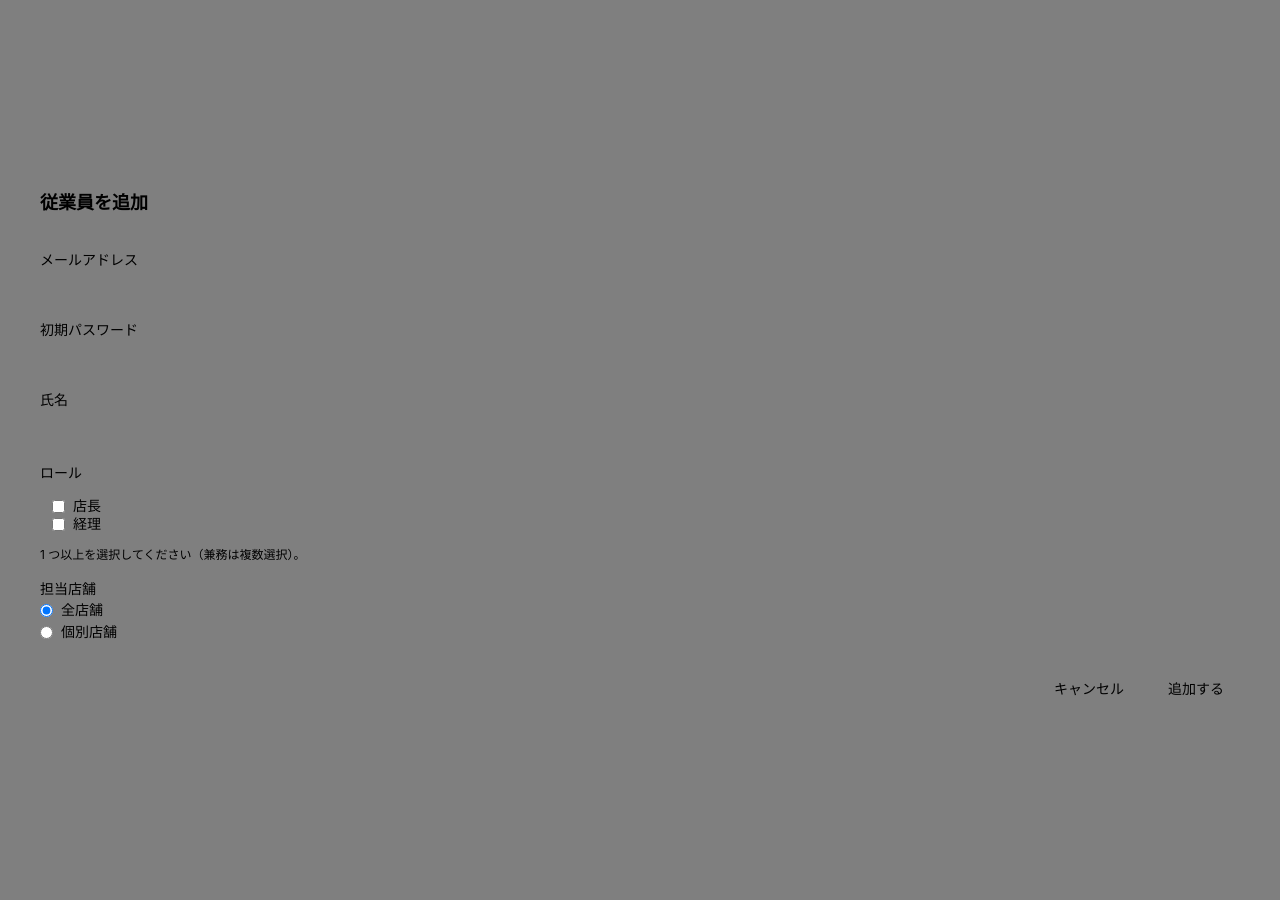
Test case: 共通作成モーダル › 必須項目が空なら各欄の傍に文言を出し作成 API を呼ばない
Click the checkbox labelled "店長": click(58, 506) top-left (52, 500), bottom-right (65, 512)
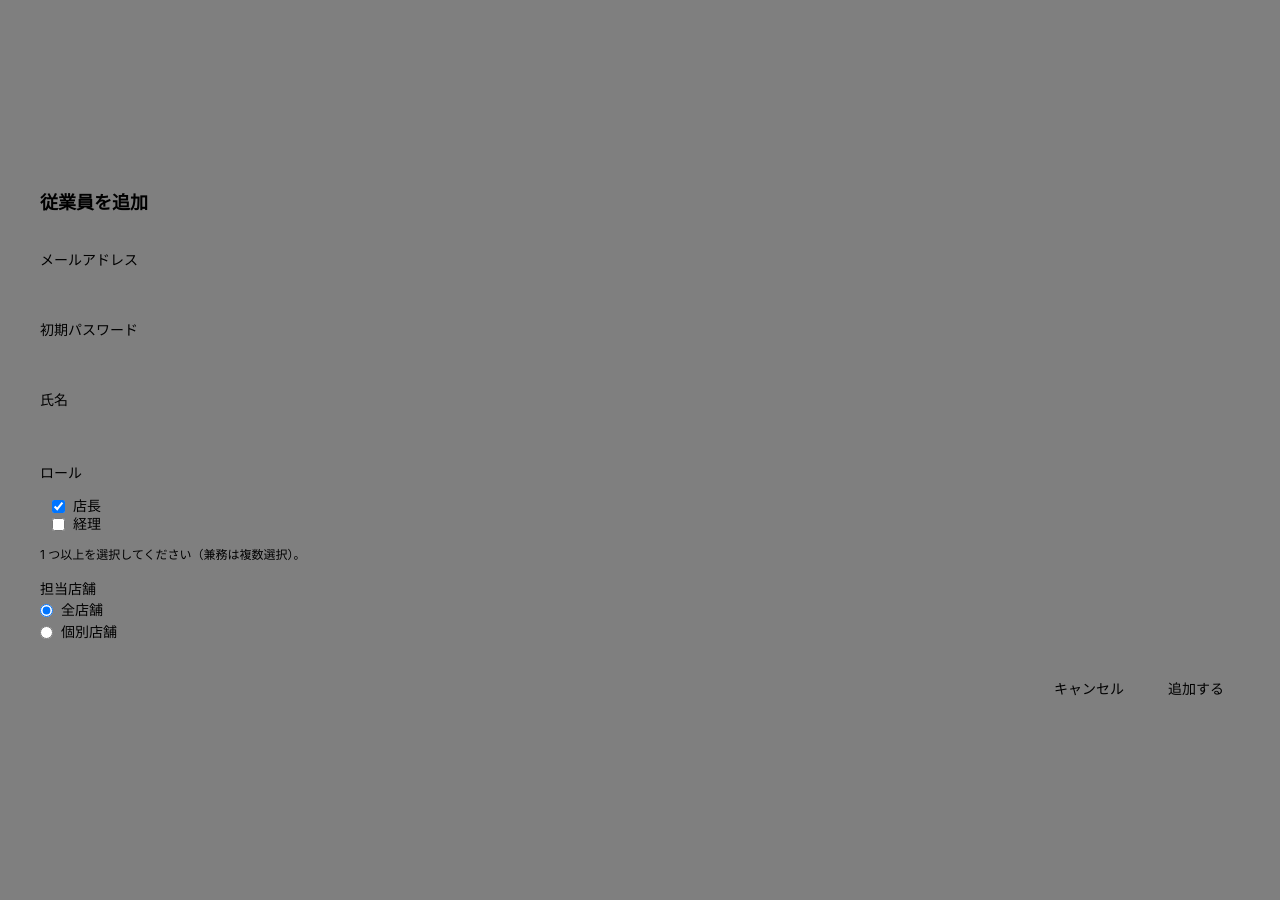
Click the button "追加する": click(1196, 689) top-left (1152, 671), bottom-right (1240, 707)
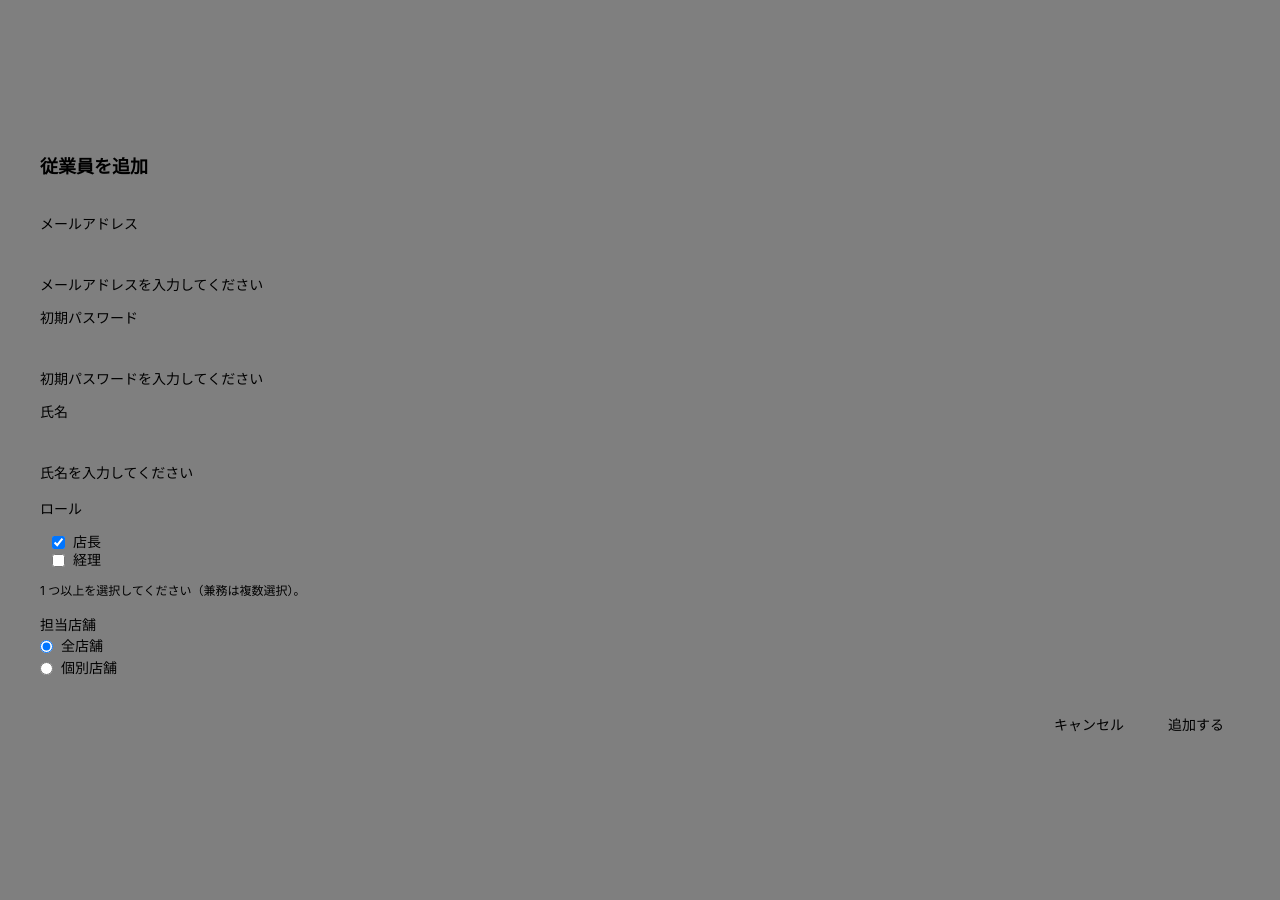
Check: the text "メールアドレスを入力してください" is shown, box top-left (40, 276), bottom-right (263, 293)
Check: the text "初期パスワードを入力してください" is shown, box top-left (40, 370), bottom-right (263, 387)
Check: the text "氏名を入力してください" is shown, box top-left (40, 464), bottom-right (193, 481)
